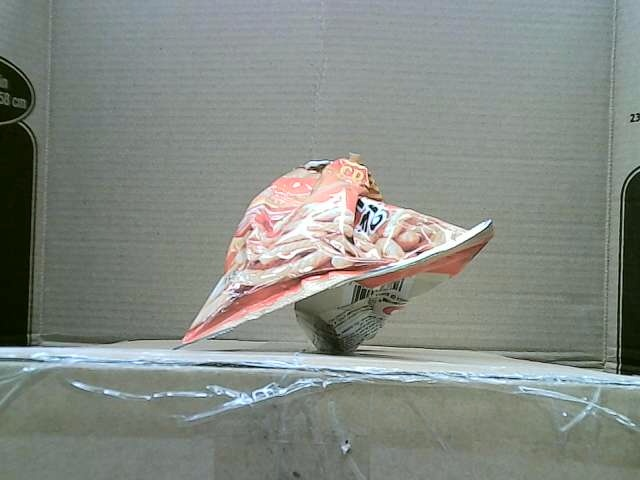Chips: (173, 153, 493, 351)
